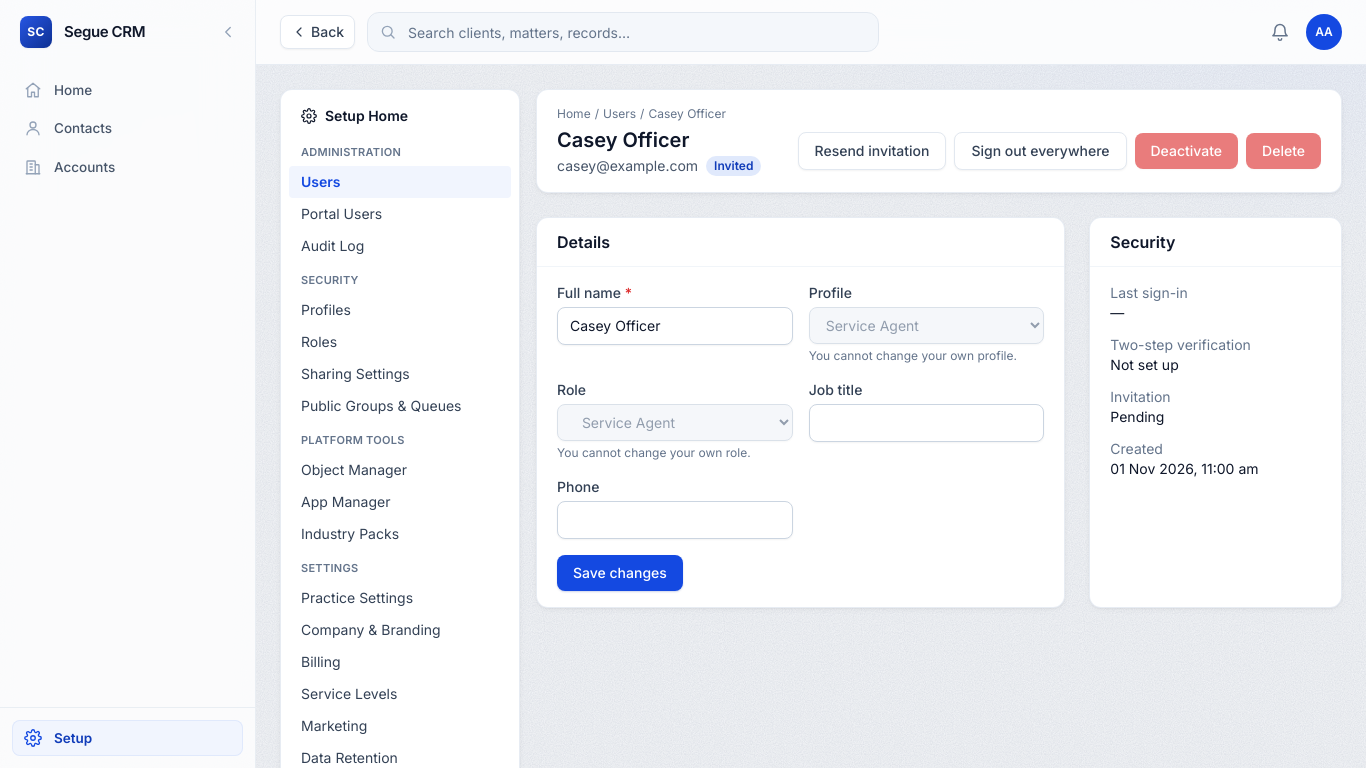
Test: user detail › confirms actions in a dialog and prevents self-deactivation
Expected: the button "Deactivate" is disabled, [1134, 133, 1238, 169]
Expected: the dropdown labelled "Role" is disabled, [557, 404, 793, 441]
Click the button "Resend invitation". click: {"x": 872, "y": 151}
box: [798, 132, 946, 170]
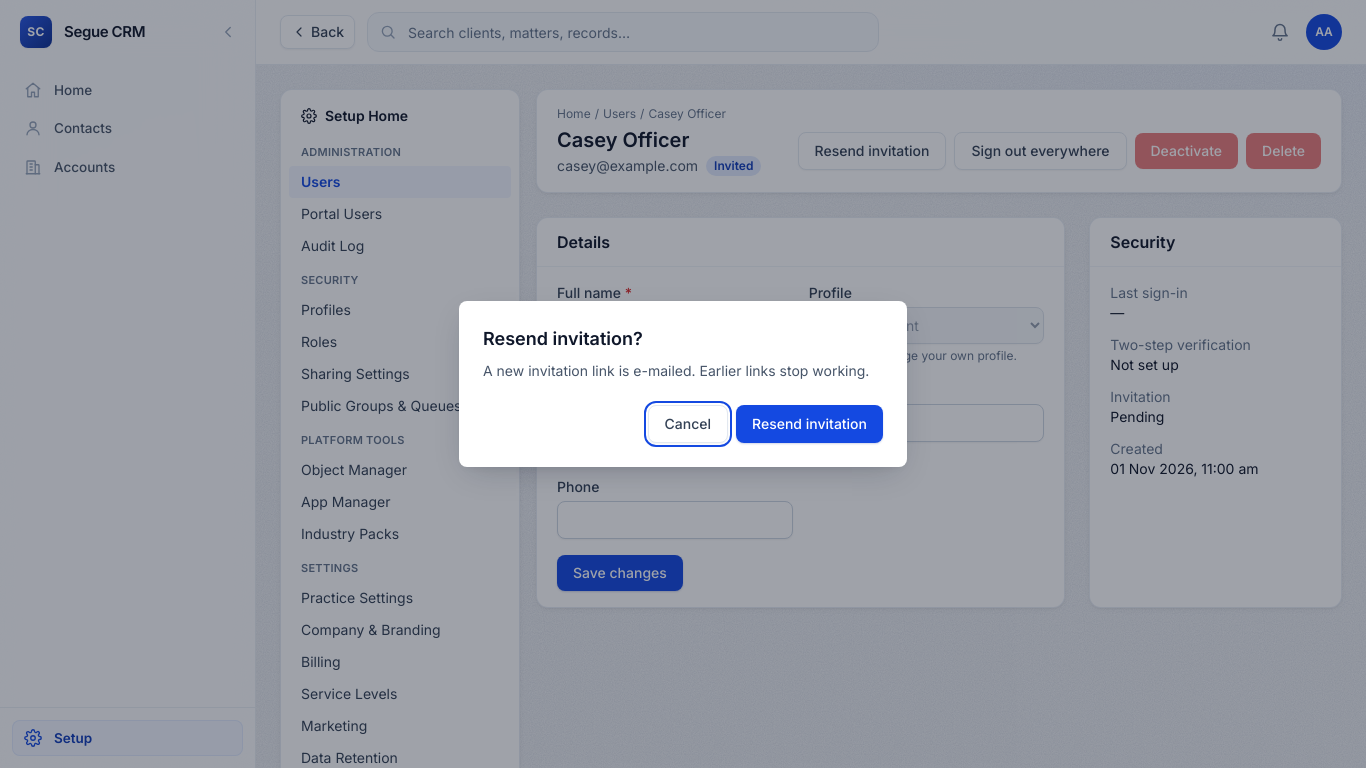
Click the button "Resend invitation". click: {"x": 810, "y": 424}
box: [736, 405, 883, 443]
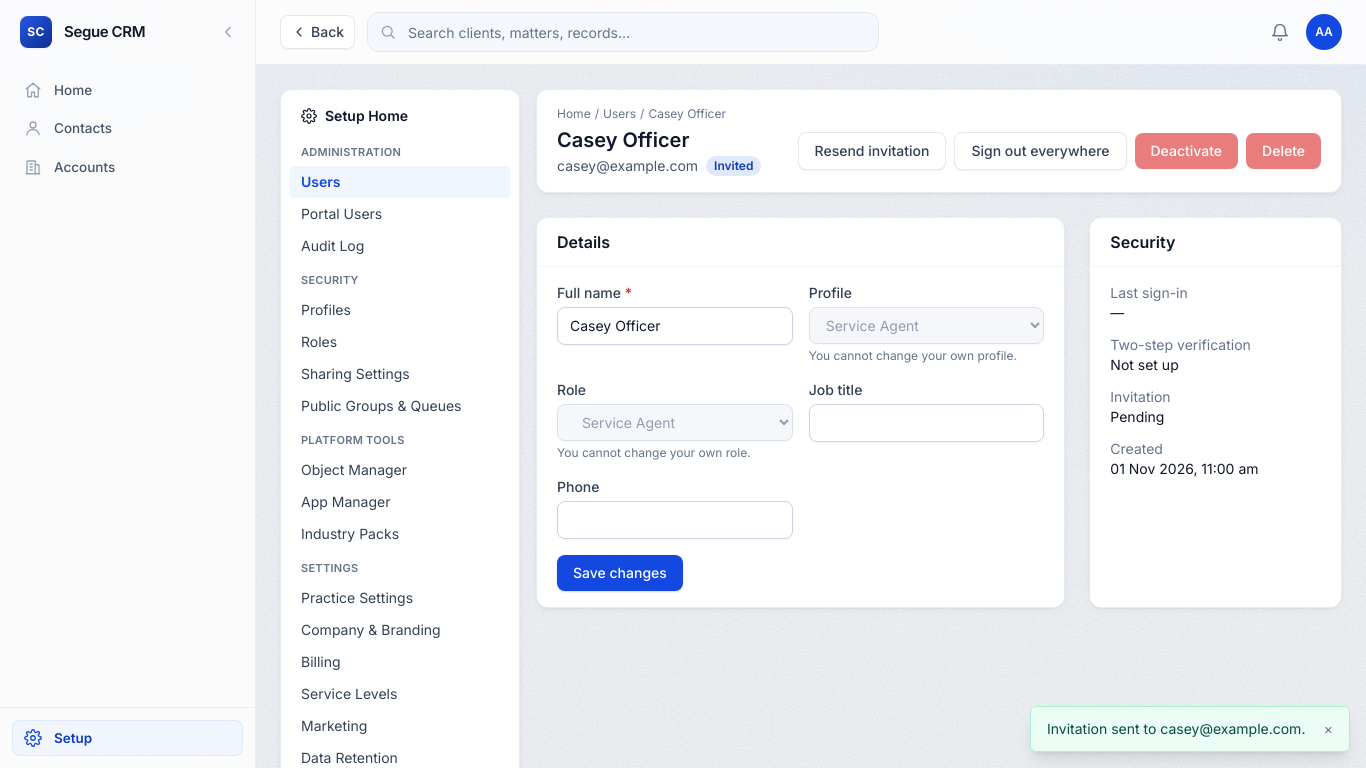
Expected: the text "Invitation sent to casey@example.com." is shown, [1047, 719, 1305, 739]
